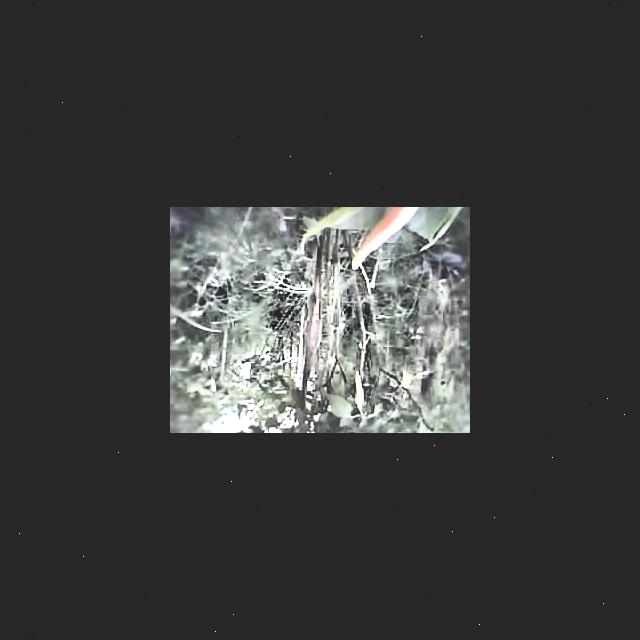Cabai: (349, 207, 421, 271)
